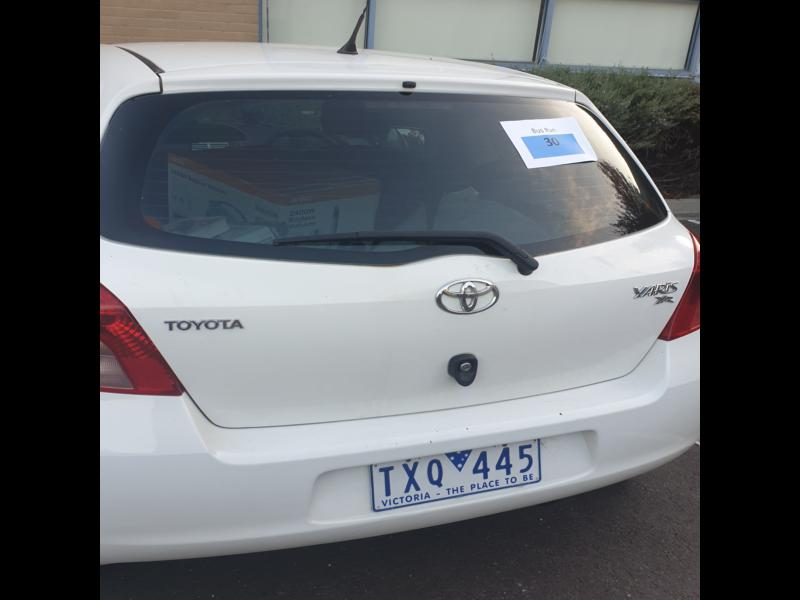BusRun: (520, 135, 589, 158)
PlateNo: (370, 435, 543, 511)
